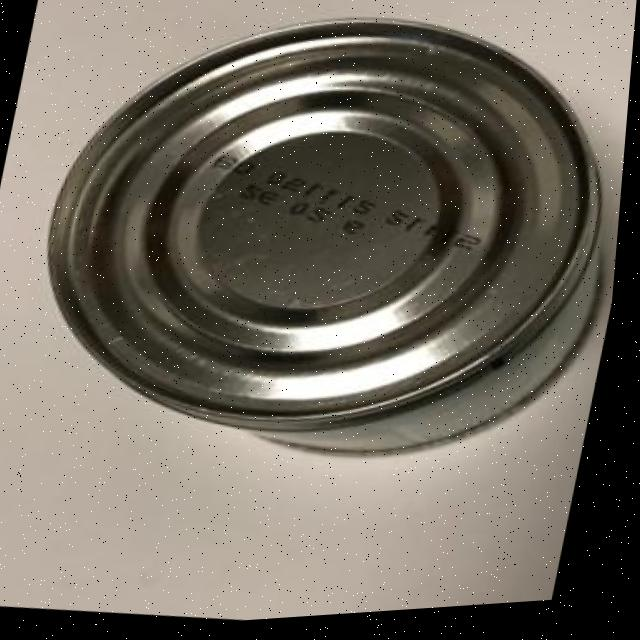metal: (0, 0, 640, 518)
